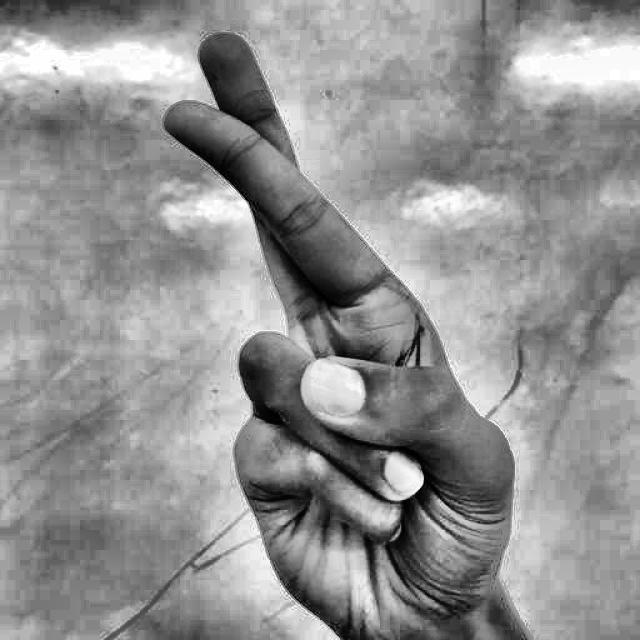Ra: (117, 21, 539, 640)
